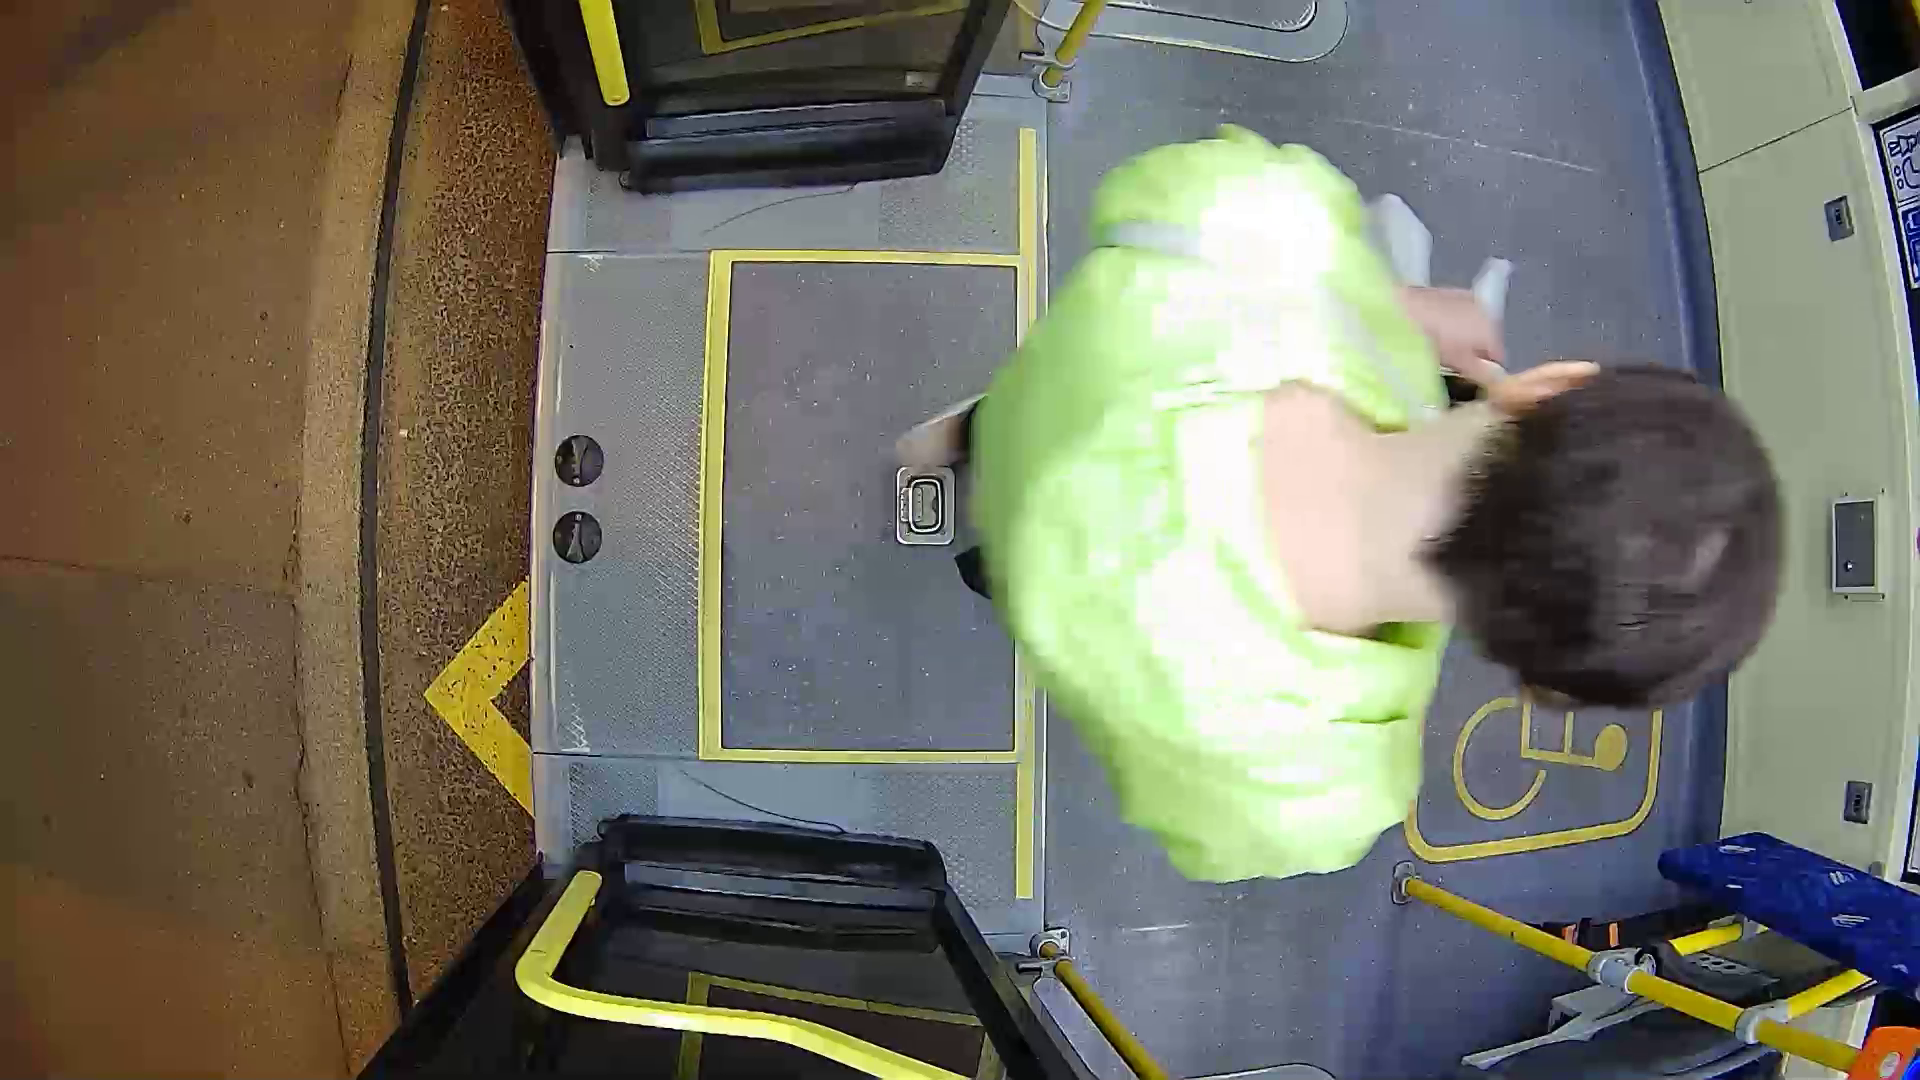person: (884, 149, 1796, 870)
